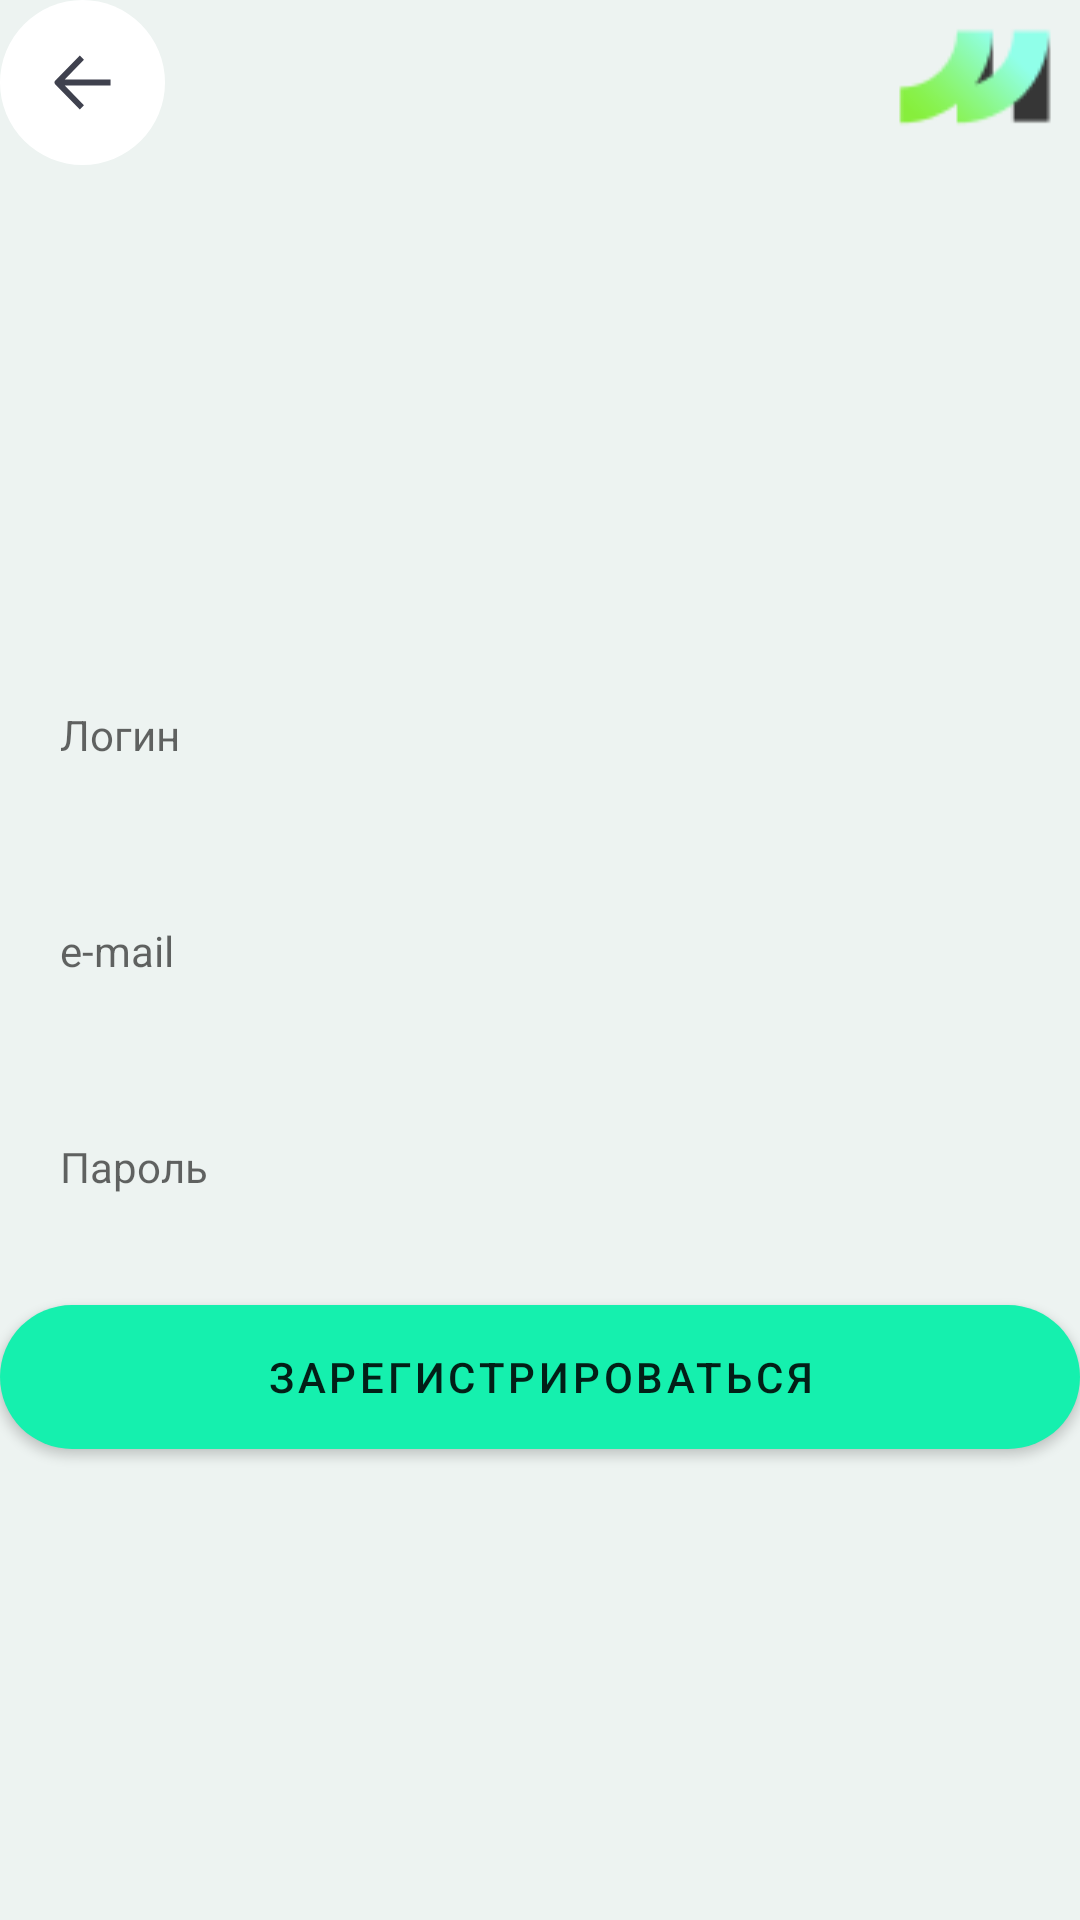

Icons on this 1080px x 1920px Android screen, each with its box as BBox(x1, y1, x2, y2):
back top: BBox(0, 0, 165, 165)
